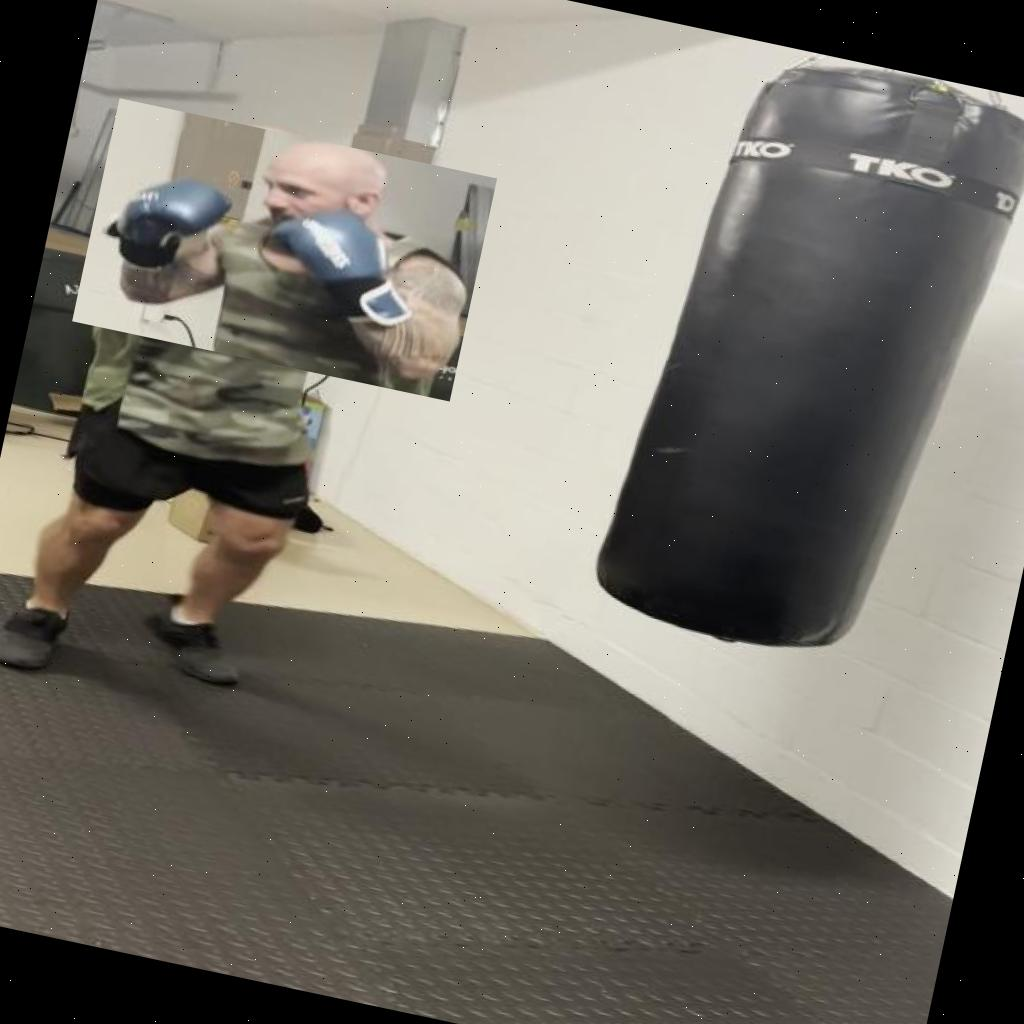bag: (657, 48, 1024, 664)
no punch: (72, 98, 498, 402), (755, 40, 758, 48)
